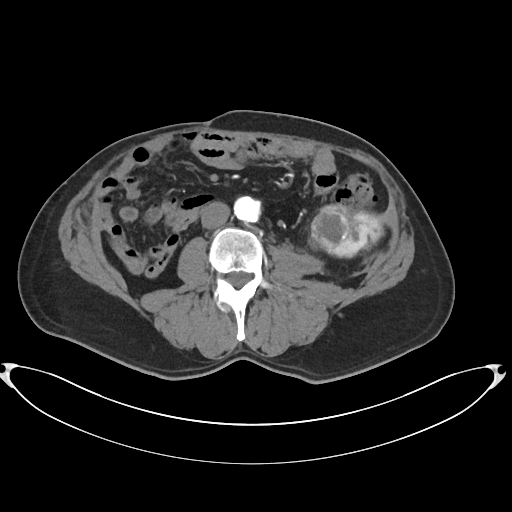Lesion: (312, 207, 349, 245)
